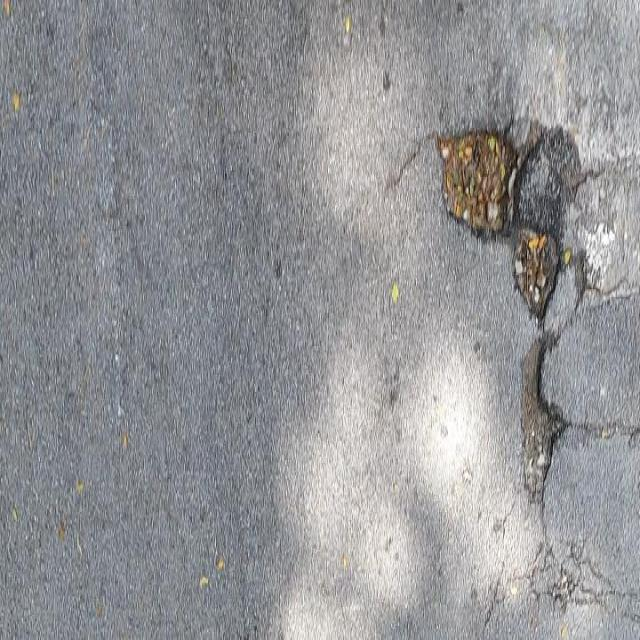potholes: (379, 70, 638, 631)
